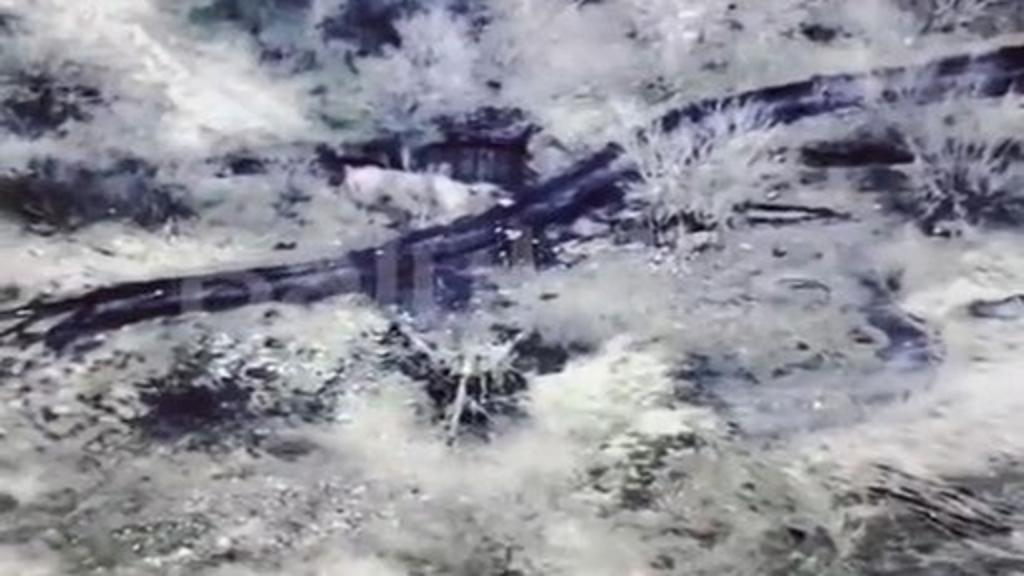ART: (396, 314, 528, 448)
